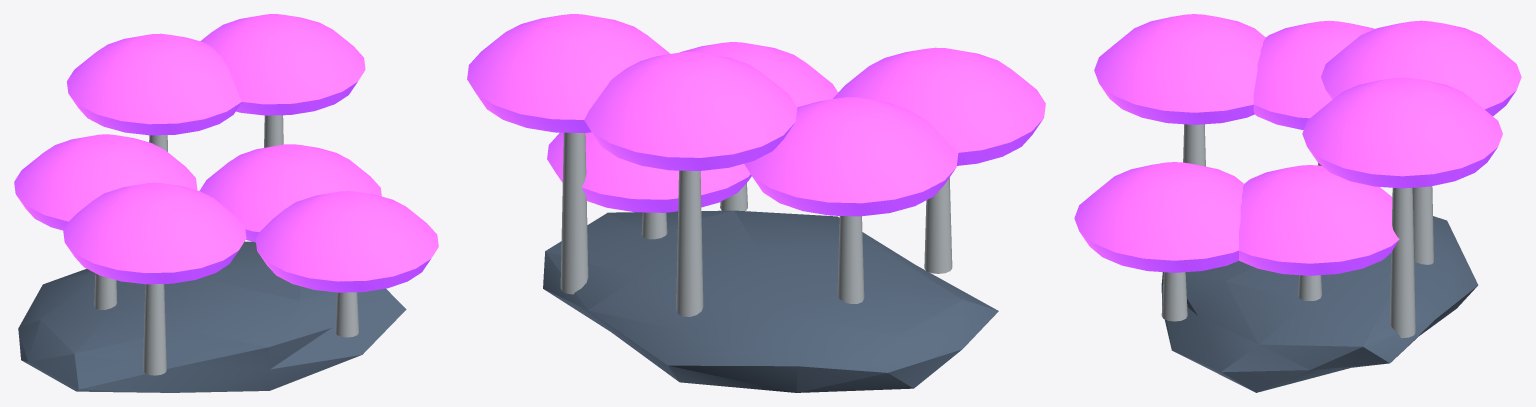
The model's file is moonsteel-convergence-spellcap-colony-f4334899__18192.glb.
3 renders of one model, left to right at view 1: azimuth 30°, elevation 25°; view 2: azimuth 150°, elevation 25°; view 3: azimuth 270°, elevation 25°, orthographic. The views are drawn at different scales.
Visible parts, largest first — view 1: spellcap-colony; view 2: spellcap-colony; view 3: spellcap-colony.
Part boxes in pixels (x1=…): spellcap-colony: x1=14, y1=14, x2=438, y2=392; spellcap-colony: x1=467, y1=14, x2=1045, y2=392; spellcap-colony: x1=1074, y1=14, x2=1521, y2=392.
Size of the model in its own units: 1.27 by 0.84 by 1.2.
